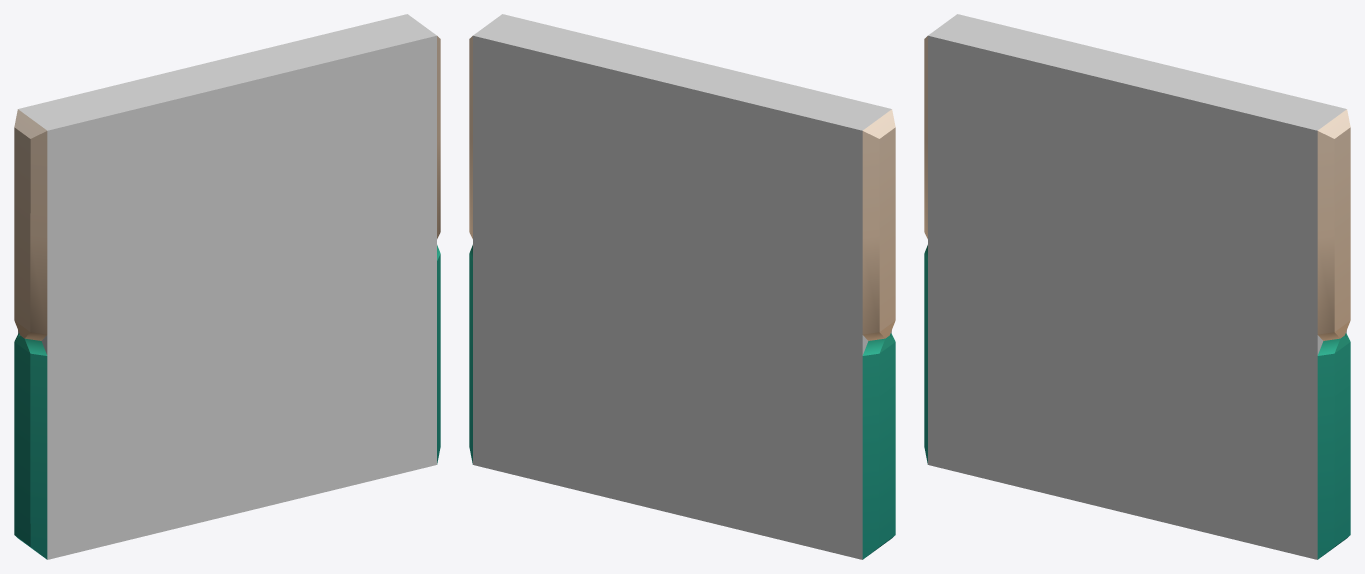
File: wall_glass_full.gltf
3 views of the same model, side by side, from view 1: azimuth 30°, elevation 25°; view 2: azimuth 150°, elevation 25°; view 3: azimuth 330°, elevation 25° (orthographic).
Parts seen in each view (by area): view 1: Glass, wall_window_open; view 2: Glass, wall_window_open; view 3: Glass, wall_window_open.
Boxes of the visible parts, x1,y1,x2,y2 form: Glass: [18, 14, 436, 559]; wall_window_open: [14, 36, 440, 559]; Glass: [473, 14, 891, 559]; wall_window_open: [469, 36, 895, 559]; Glass: [928, 14, 1346, 559]; wall_window_open: [924, 36, 1350, 559].
Bounding box in the file's own units: 4 × 4 × 0.5.
2 materials, 1 textured.
